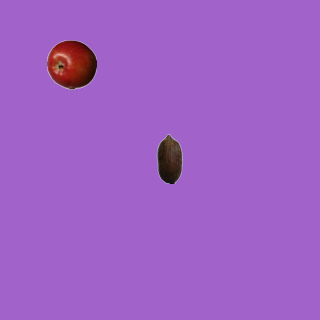Apple Braeburn: (46, 39, 96, 89)
Nut Pecan: (144, 133, 194, 183)
